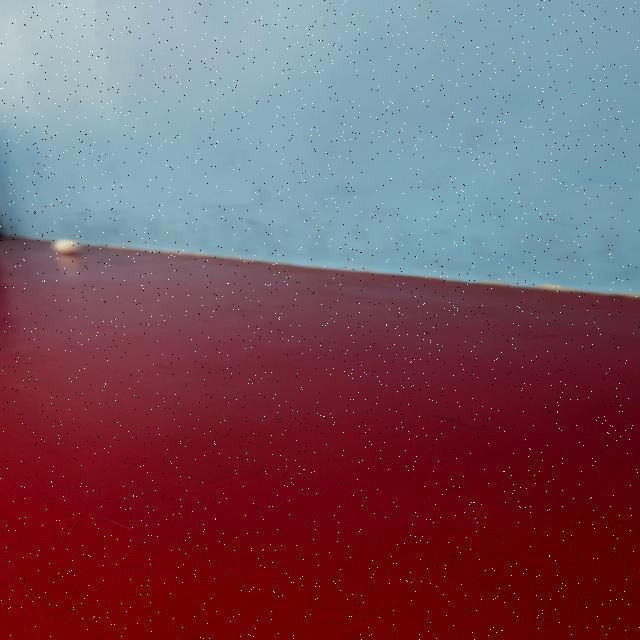ping-pong-ball: (42, 229, 88, 255)
